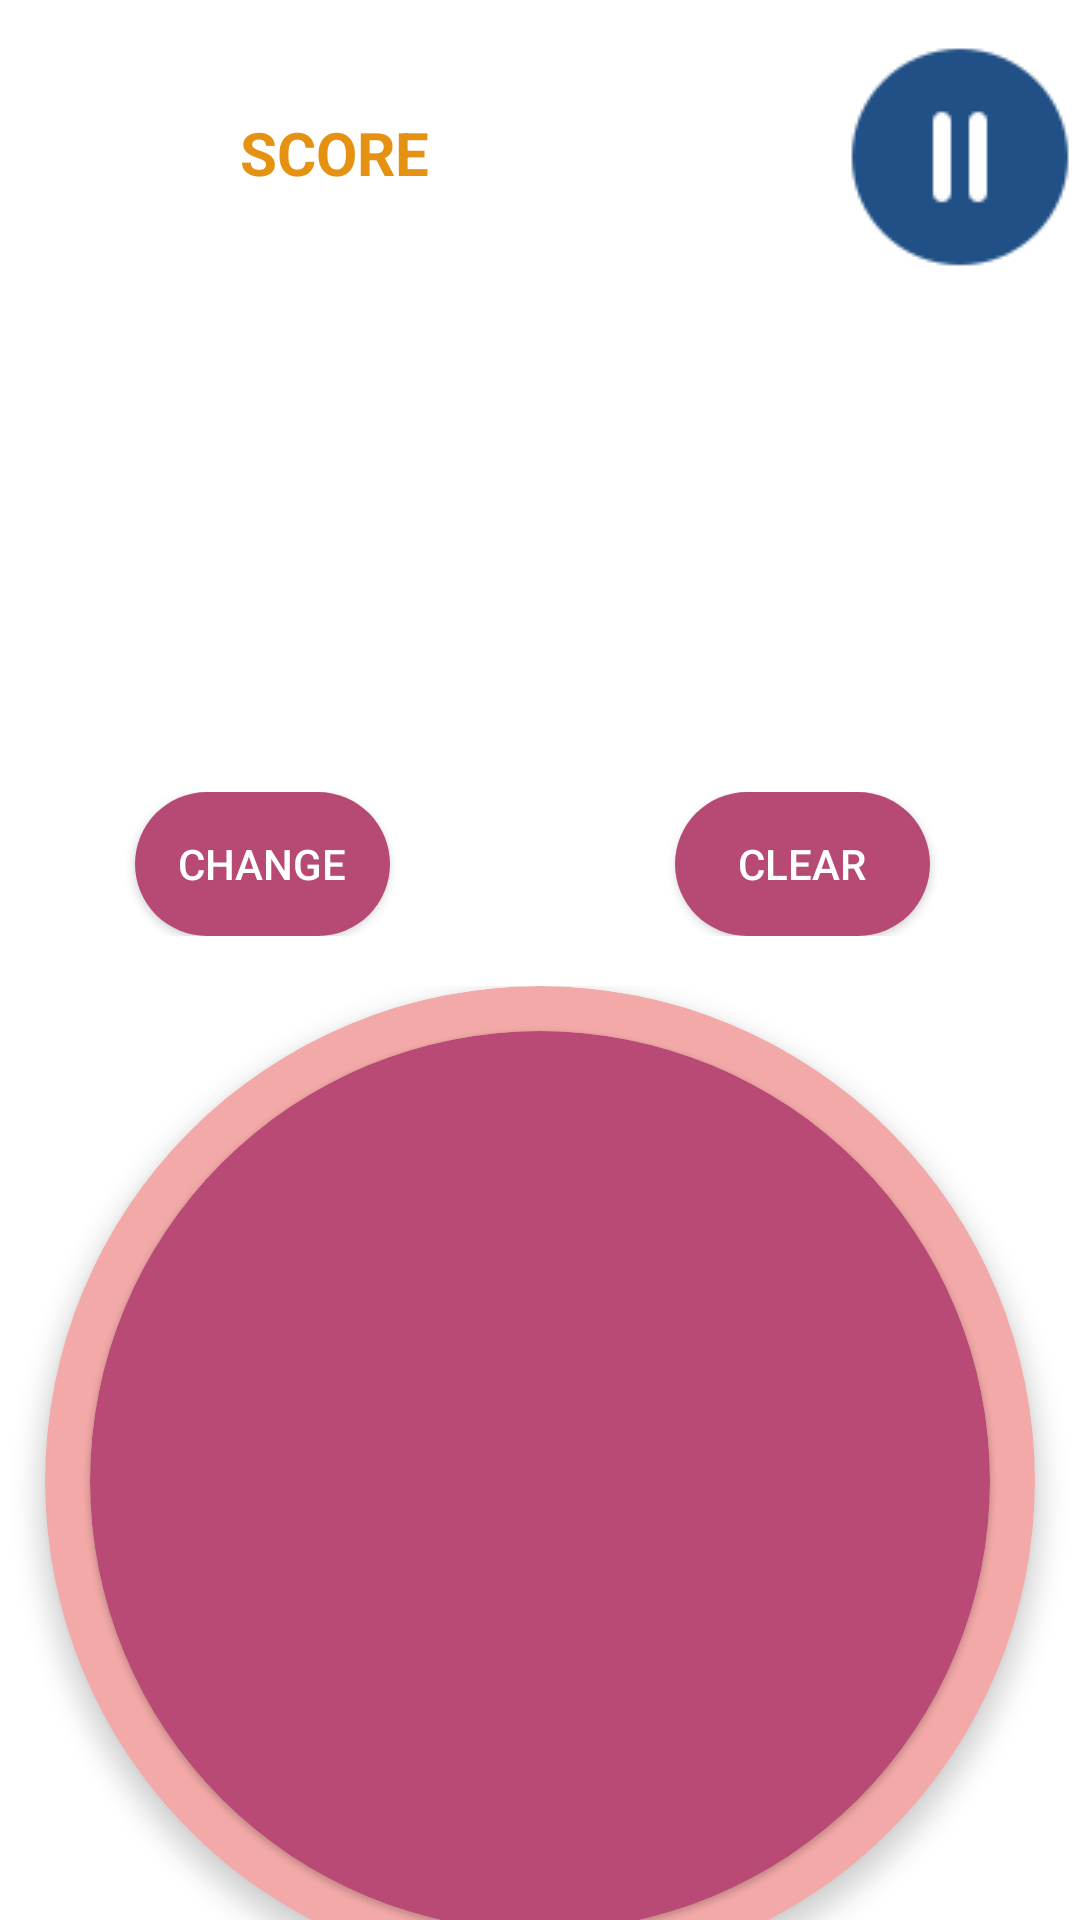

Named icons in this screenshot (1080px×1920px) and their bounding boxes, (x1, y1, x2, y2):
pause: (851, 48, 1069, 266)
